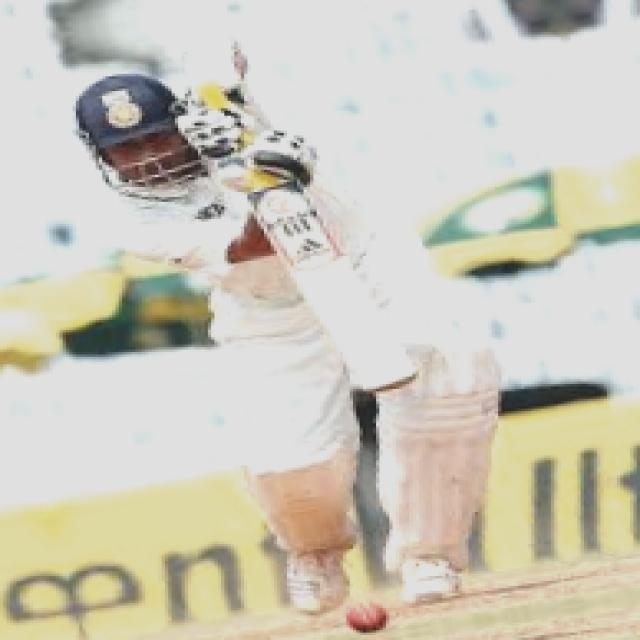toe: (340, 336, 419, 393)
